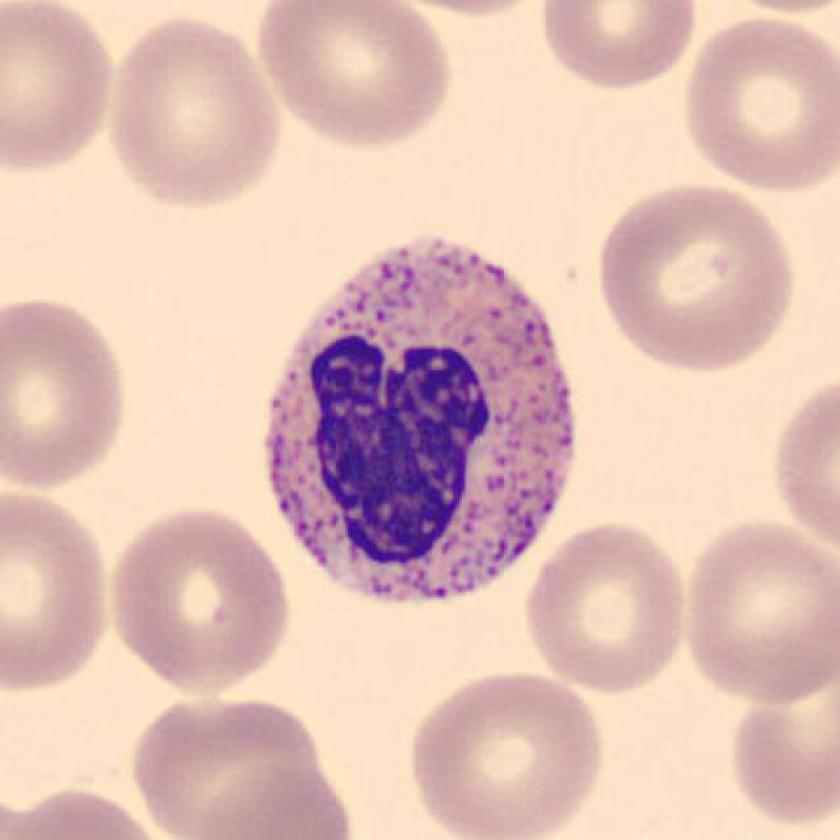neutrophil: (269, 237, 575, 602)
